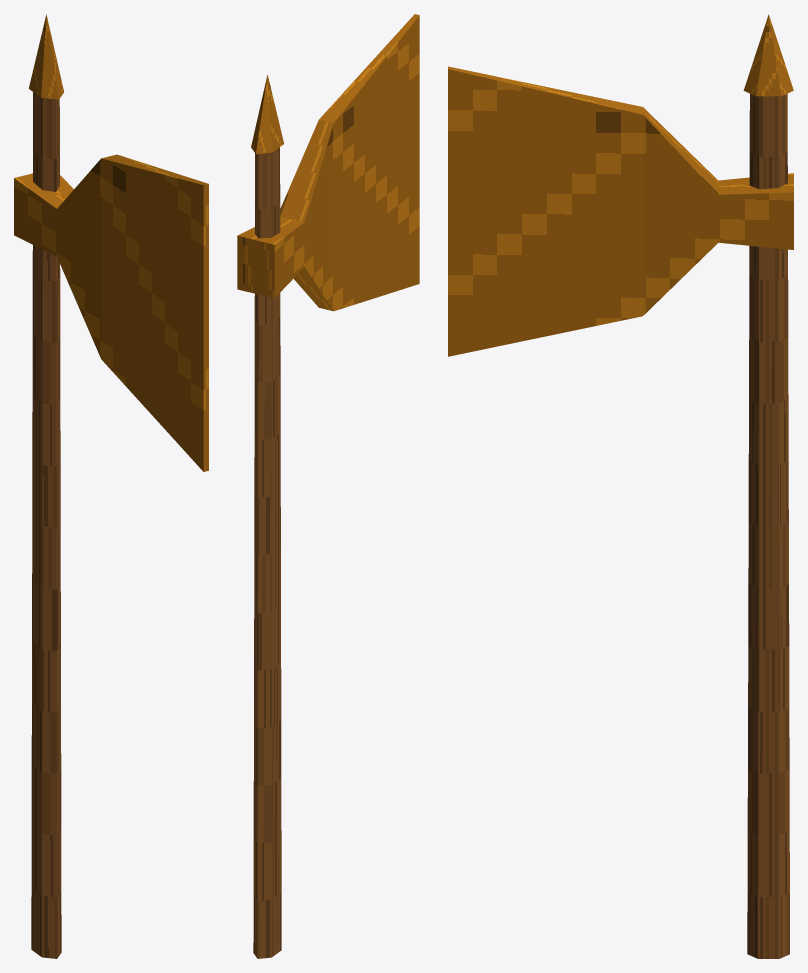
Rendered from hacha_ceremonial.glb.
3 renders of one model, left to right at view 1: azimuth 30°, elevation 25°; view 2: azimuth 150°, elevation 25°; view 3: azimuth 270°, elevation 25°, orthographic. The views are drawn at different scales.
Visible parts, largest first — view 1: cabeza, mango, adorno_2; view 2: cabeza, mango, adorno_2; view 3: cabeza, mango, adorno_2.
Boxes of the visible parts, x1=… form: cabeza: x1=14, y1=154, x2=208, y2=471; mango: x1=31, y1=92, x2=61, y2=958; adorno_2: x1=29, y1=14, x2=63, y2=99; cabeza: x1=237, y1=14, x2=419, y2=311; mango: x1=253, y1=147, x2=281, y2=958; adorno_2: x1=251, y1=75, x2=283, y2=154; cabeza: x1=448, y1=66, x2=793, y2=356; mango: x1=747, y1=93, x2=789, y2=958; adorno_2: x1=743, y1=14, x2=793, y2=96.
Bounding box in the file's own units: 0.04 × 0.9 × 0.3.
1 material, 1 textured.
